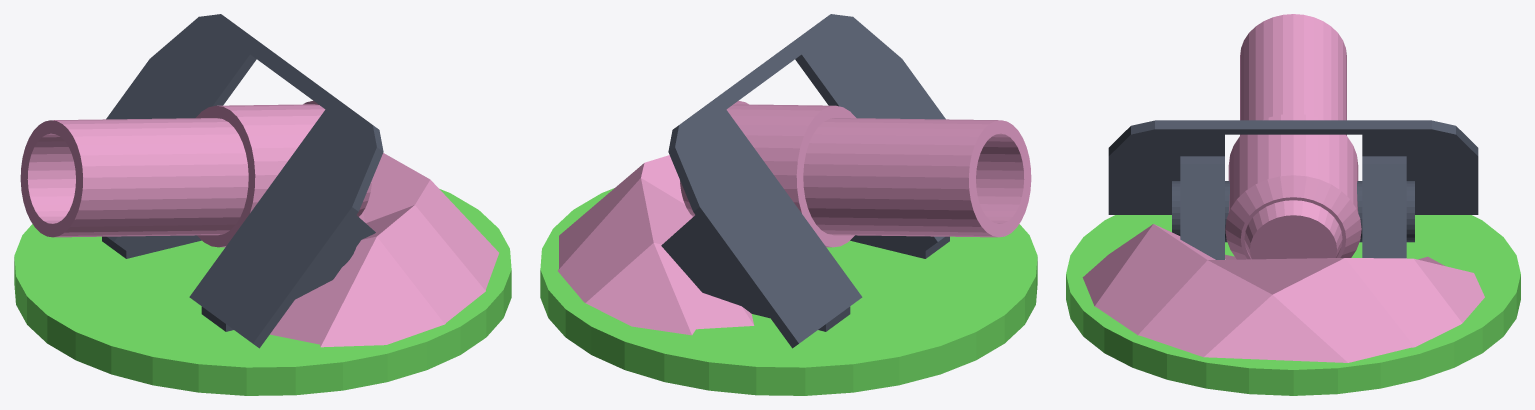
The model's file is turret4.fbx.
3 renders of one model, left to right at view 1: azimuth 30°, elevation 25°; view 2: azimuth 150°, elevation 25°; view 3: azimuth 270°, elevation 25°, orthographic. The views are drawn at different scales.
Visible parts, largest first — view 1: turret4; view 2: turret4; view 3: turret4.
Boxes of the visible parts, box(x1,y1,x2,y2) form: turret4: box(14, 14, 511, 395); turret4: box(540, 14, 1037, 395); turret4: box(1066, 14, 1520, 395).
Size of the model in its own units: 20289 by 9544 by 20000.
